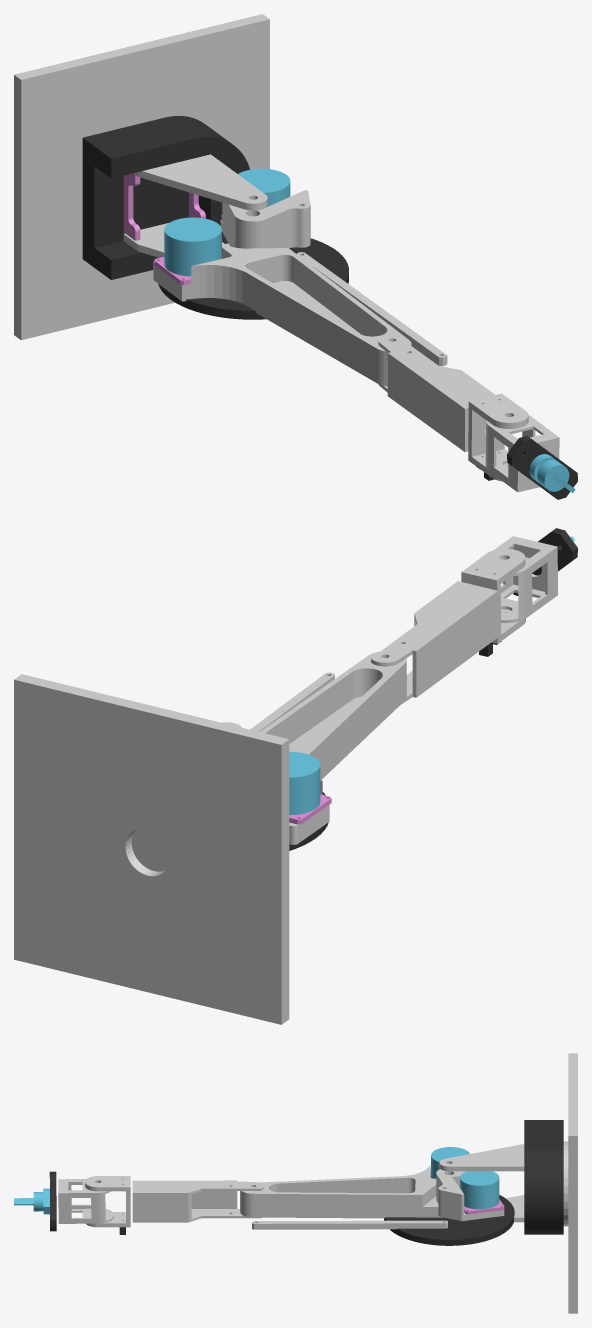
Rendered from main.glb.
The picture shows the model from 3 angles, top to bottom: view 1: azimuth 30°, elevation 25°; view 2: azimuth 150°, elevation 25°; view 3: azimuth 270°, elevation 25°; orthographic projection. The views are drawn at different scales.
Visible parts, largest first — view 1: base, base-1-1, link1, link3, link2, base-2-2, motor-asm-1 motor-main-1, link5, link6, shoulder-gear-cover-1, link2b, link7 (+4 smaller); view 2: base, link1, link3, link6, link5, motor-asm-1 motor-main-1, base-yaw-cylinder, link2b, link7; view 3: link1, link3, base-1-1, shoulder-gear-cover-1, base, link6, link2b, base-2-2, link2, motor-main-1, link5, hand-link-1-1 (+4 smaller).
Boxes of the visible parts, left/top/right/bottom form: base: left=14, top=14, right=269, bottom=340; base-1-1: left=82, top=115, right=249, bottom=279; link1: left=153, top=242, right=411, bottom=386; link3: left=378, top=334, right=494, bottom=451; link2: left=220, top=190, right=310, bottom=248; base-2-2: left=133, top=154, right=267, bottom=210; motor-asm-1 motor-main-1: left=164, top=217, right=221, bottom=276; link5: left=468, top=393, right=528, bottom=481; link6: left=485, top=415, right=559, bottom=492; shoulder-gear-cover-1: left=158, top=232, right=348, bottom=319; link2b: left=297, top=252, right=447, bottom=366; link7: left=507, top=436, right=577, bottom=499; base: left=14, top=674, right=289, bottom=1024; link1: left=260, top=651, right=406, bottom=844; link3: left=371, top=581, right=497, bottom=704; link6: left=494, top=536, right=557, bottom=622; link5: left=461, top=549, right=525, bottom=643; motor-asm-1 motor-main-1: left=289, top=751, right=320, bottom=814; base-yaw-cylinder: left=131, top=828, right=169, bottom=871; link2b: left=250, top=672, right=334, bottom=731; link7: left=513, top=528, right=577, bottom=595; link1: left=240, top=1165, right=443, bottom=1218; link3: left=132, top=1180, right=263, bottom=1222; base-1-1: left=524, top=1120, right=563, bottom=1234; shoulder-gear-cover-1: left=384, top=1195, right=514, bottom=1245; base: left=568, top=1053, right=577, bottom=1313; link6: left=58, top=1179, right=113, bottom=1223; link2b: left=252, top=1220, right=447, bottom=1229; base-2-2: left=439, top=1144, right=524, bottom=1171; link2: left=436, top=1169, right=504, bottom=1221; motor-main-1: left=460, top=1171, right=499, bottom=1209; link5: left=85, top=1176, right=130, bottom=1227; hand-link-1-1: left=14, top=1188, right=49, bottom=1214.
Bounding box in the file's own units: 12 × 12 × 34.5.
